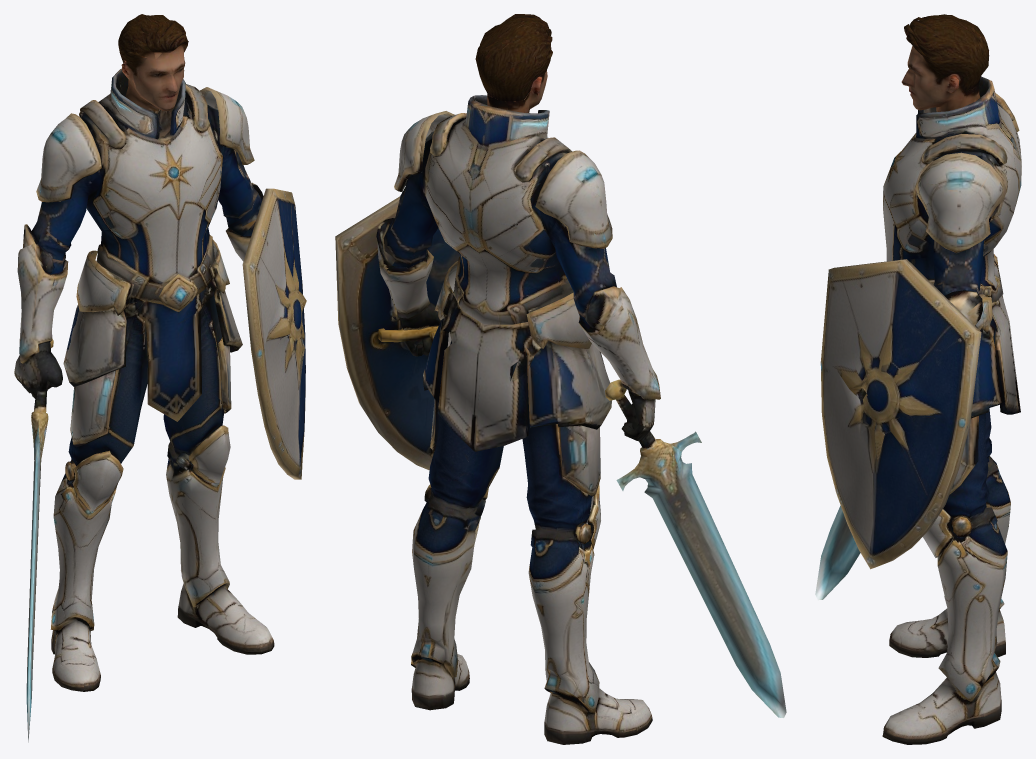
Rendered from paladin-sword.original.glb.
3 views of the same model, side by side, from view 1: azimuth 30°, elevation 25°; view 2: azimuth 150°, elevation 25°; view 3: azimuth 270°, elevation 25° (orthographic). The views are drawn at different scales.
Parts seen in each view (by area): view 1: tripo_part_4_Clone, tripo_part_2_Clone, tripo_part_9_Clone, tripo_part_1_Clone, tripo_part_3_Clone, tripo_part_0_Clone, tripo_part_7_Clone, tripo_part_14_Clone, tripo_part_12_Clone, tripo_part_8_Clone, tripo_part_15_Clone, tripo_part_22_Clone (+11 smaller); view 2: tripo_part_4_Clone, tripo_part_3_Clone, tripo_part_1_Clone, tripo_part_9_Clone, tripo_part_2_Clone, tripo_part_8_Clone, tripo_part_0_Clone, tripo_part_14_Clone, tripo_part_7_Clone, tripo_part_15_Clone, tripo_part_12_Clone, tripo_part_10_Clone (+6 smaller); view 3: tripo_part_9_Clone, tripo_part_2_Clone, tripo_part_4_Clone, tripo_part_0_Clone, tripo_part_11_Clone, tripo_part_1_Clone, tripo_part_3_Clone, tripo_part_15_Clone, tripo_part_8_Clone, tripo_part_16_Clone, tripo_part_21_Clone, tripo_part_18_Clone (+2 smaller).
Boxes of the visible parts, x1=… form: tripo_part_4_Clone: x1=79, y1=68, x2=222, y2=304; tripo_part_2_Clone: x1=163, y1=294, x2=274, y2=654; tripo_part_9_Clone: x1=242, y1=188, x2=306, y2=479; tripo_part_1_Clone: x1=50, y1=308, x2=147, y2=691; tripo_part_3_Clone: x1=63, y1=278, x2=242, y2=421; tripo_part_0_Clone: x1=118, y1=14, x2=188, y2=137; tripo_part_7_Clone: x1=17, y1=224, x2=68, y2=363; tripo_part_14_Clone: x1=36, y1=113, x2=102, y2=202; tripo_part_12_Clone: x1=32, y1=129, x2=101, y2=270; tripo_part_8_Clone: x1=26, y1=339, x2=53, y2=742; tripo_part_15_Clone: x1=207, y1=107, x2=261, y2=235; tripo_part_22_Clone: x1=70, y1=370, x2=116, y2=447; tripo_part_4_Clone: x1=423, y1=95, x2=573, y2=324; tripo_part_3_Clone: x1=422, y1=291, x2=611, y2=451; tripo_part_1_Clone: x1=512, y1=362, x2=652, y2=744; tripo_part_9_Clone: x1=335, y1=196, x2=459, y2=470; tripo_part_2_Clone: x1=411, y1=340, x2=503, y2=710; tripo_part_8_Clone: x1=605, y1=379, x2=786, y2=717; tripo_part_0_Clone: x1=475, y1=14, x2=552, y2=112; tripo_part_14_Clone: x1=535, y1=150, x2=612, y2=248; tripo_part_7_Clone: x1=579, y1=286, x2=660, y2=399; tripo_part_15_Clone: x1=383, y1=131, x2=438, y2=267; tripo_part_12_Clone: x1=536, y1=201, x2=616, y2=320; tripo_part_10_Clone: x1=376, y1=218, x2=433, y2=319; tripo_part_9_Clone: x1=820, y1=259, x2=981, y2=569; tripo_part_2_Clone: x1=882, y1=330, x2=1007, y2=744; tripo_part_4_Clone: x1=883, y1=76, x2=1021, y2=302; tripo_part_0_Clone: x1=901, y1=15, x2=989, y2=111; tripo_part_11_Clone: x1=916, y1=152, x2=1006, y2=253; tripo_part_1_Clone: x1=889, y1=408, x2=1010, y2=657; tripo_part_3_Clone: x1=971, y1=295, x2=1020, y2=418; tripo_part_15_Clone: x1=933, y1=211, x2=994, y2=295; tripo_part_8_Clone: x1=815, y1=505, x2=860, y2=600; tripo_part_16_Clone: x1=921, y1=134, x2=1007, y2=165; tripo_part_21_Clone: x1=949, y1=416, x2=978, y2=494; tripo_part_18_Clone: x1=923, y1=509, x2=956, y2=557.
Size of the model in its own units: 0.5613 by 1 by 0.276.
Materials: 1 (1 with a texture image).
